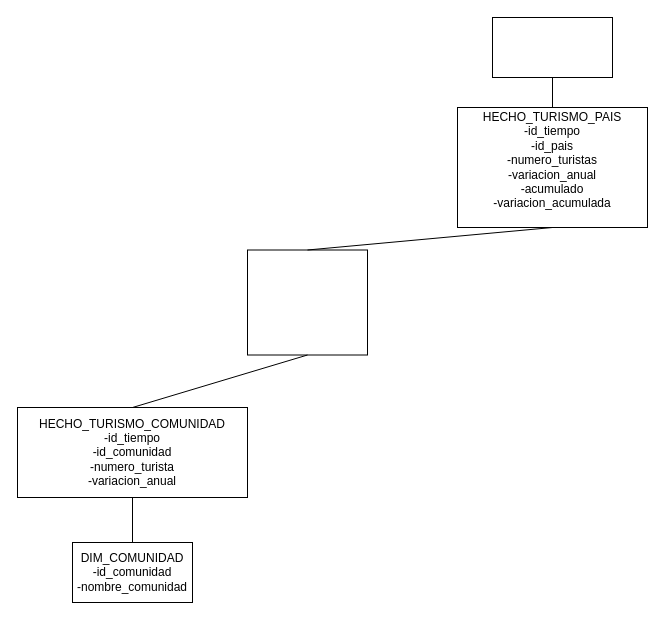
The diagram is 665 pixels wide and 620 high, and some of its shapes have lost their labels. Here are the shapes that lost their labels. From the top down, the centre of each, then its label:
At pixel 552 47: "DIM_PAIS -id_pais -nombre-pais".
At pixel 307 302: "TIEMPO -id_tiempo -año -mes -trimestre".
